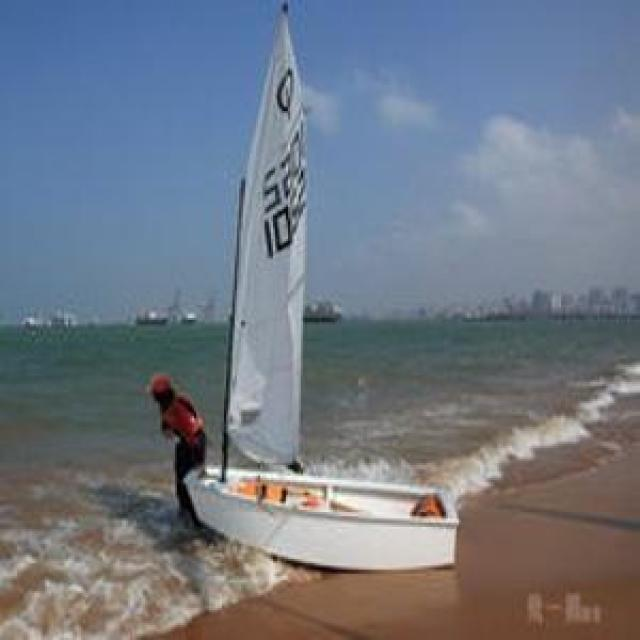sailboat: (180, 2, 461, 576)
